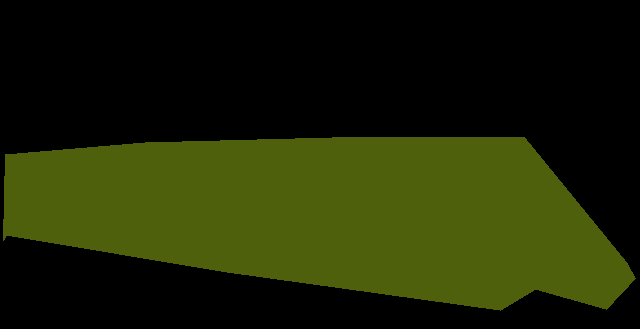Train: (3, 137, 635, 311)
